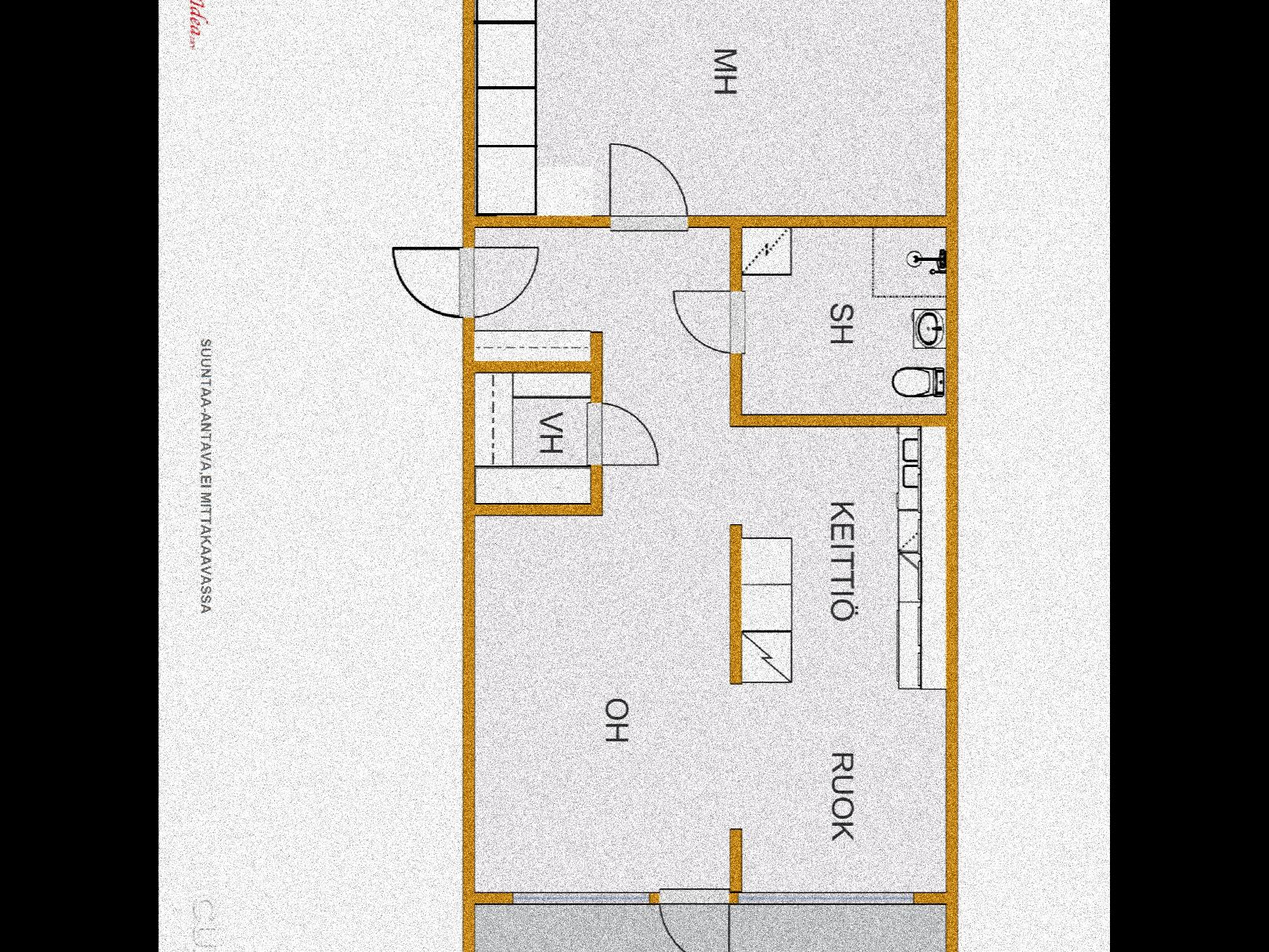door: (393, 242, 542, 319), (607, 143, 691, 233), (667, 283, 747, 355), (586, 404, 667, 471), (661, 885, 736, 952)
window: (742, 890, 922, 908), (517, 890, 648, 905)
zone: (481, 225, 951, 887), (481, 0, 948, 209), (744, 224, 952, 413), (476, 903, 949, 952), (459, 373, 594, 497)
